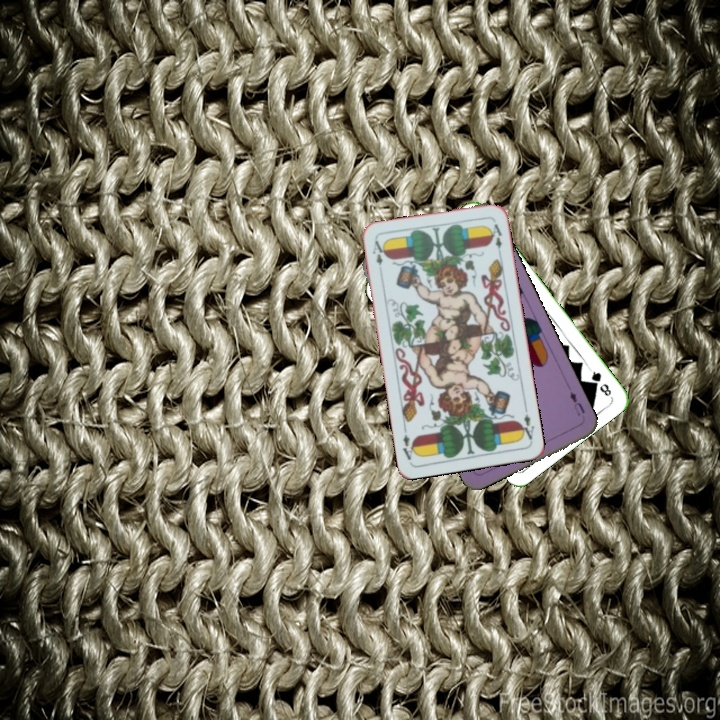EA: (516, 410, 537, 444), (368, 237, 387, 268)
EU: (566, 388, 587, 419)
G8: (585, 365, 614, 399)
